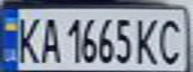1: (60, 14, 81, 63)
5: (112, 15, 136, 64)
6: (78, 15, 100, 64), (97, 15, 118, 64)
A: (36, 13, 60, 64)
C: (151, 15, 190, 66)
K: (12, 12, 45, 65), (133, 15, 163, 65)
